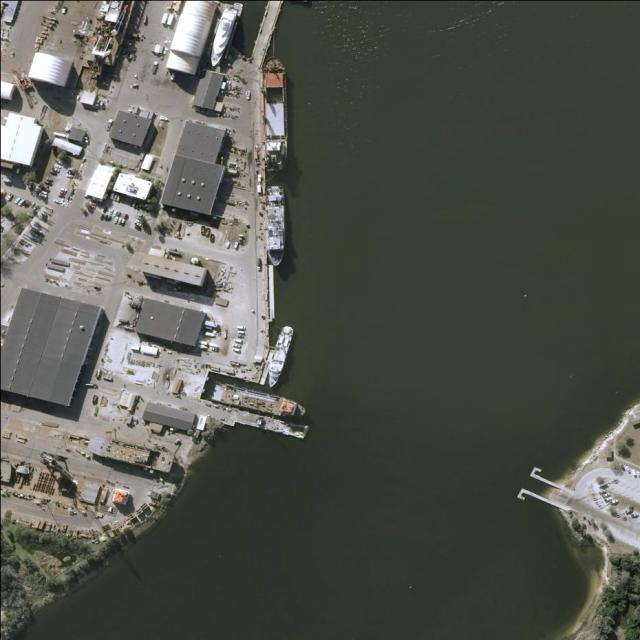Cargo: (260, 55, 290, 172)
Other Warship: (268, 185, 287, 267)
Yacht: (262, 325, 295, 388)
